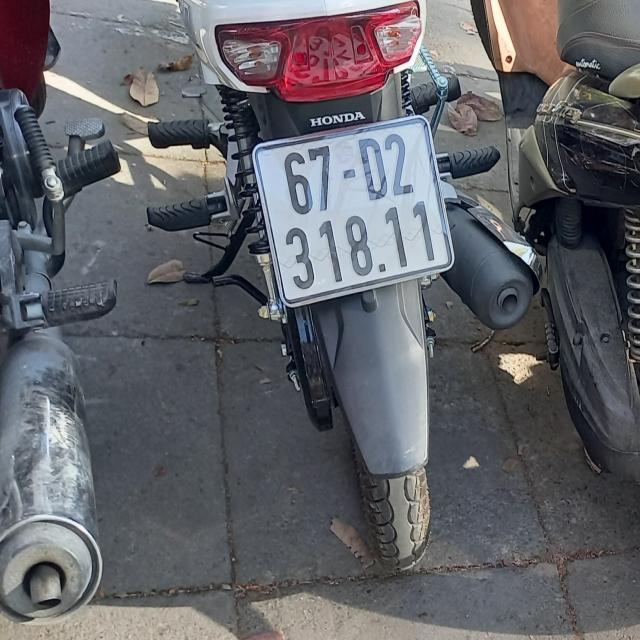1: (382, 205, 410, 267), (411, 200, 439, 262), (316, 218, 342, 282)
3: (284, 228, 316, 288)
6: (285, 151, 314, 213)
7: (385, 133, 414, 195), (308, 144, 334, 212)
8: (345, 215, 372, 279)
D: (359, 136, 389, 202)
